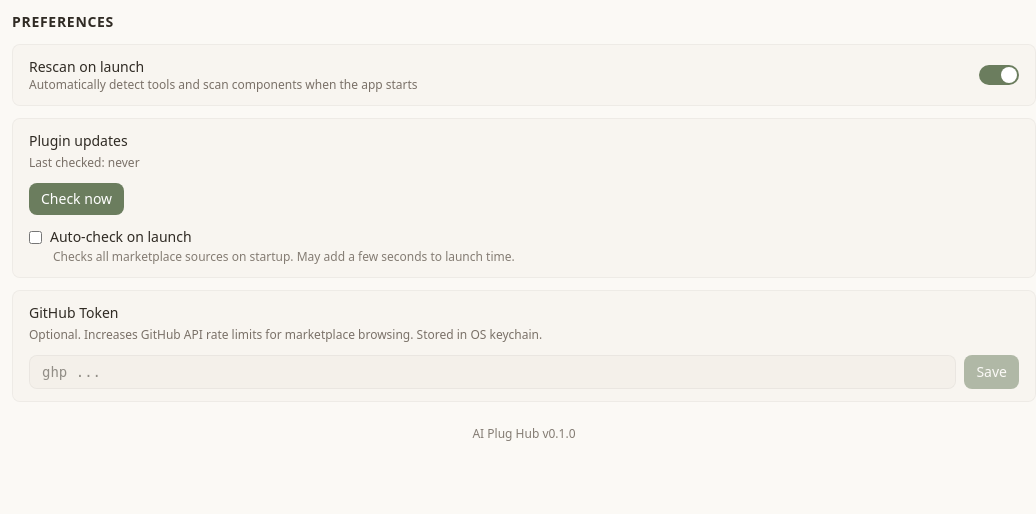
Test case: PreferencesSection › GitHub token — not configured › shows error when setGithubToken fails
Type "ghp_bad" into the password field named "GitHub token" at (493, 372), box [29,355,956,389]
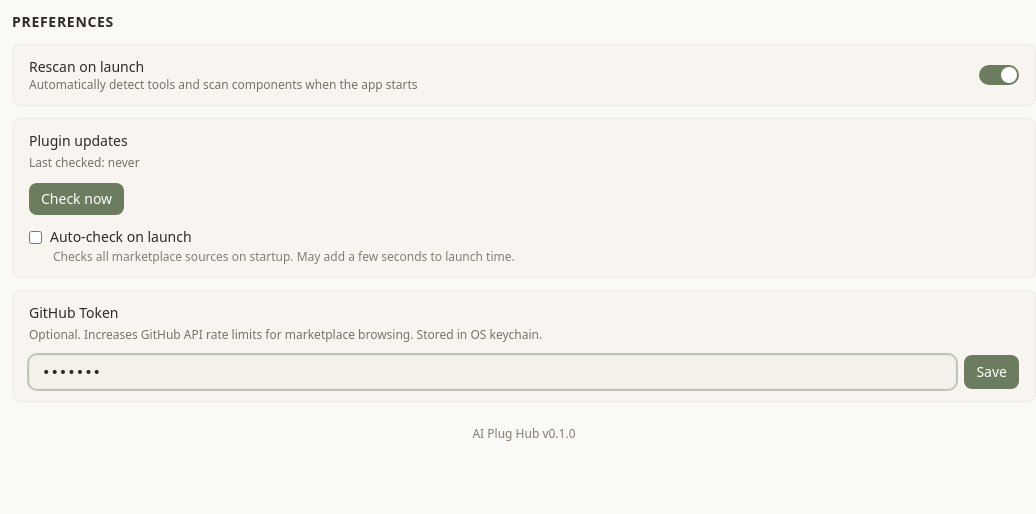
Click the button "Save" at (992, 372), box [964,355,1019,389]
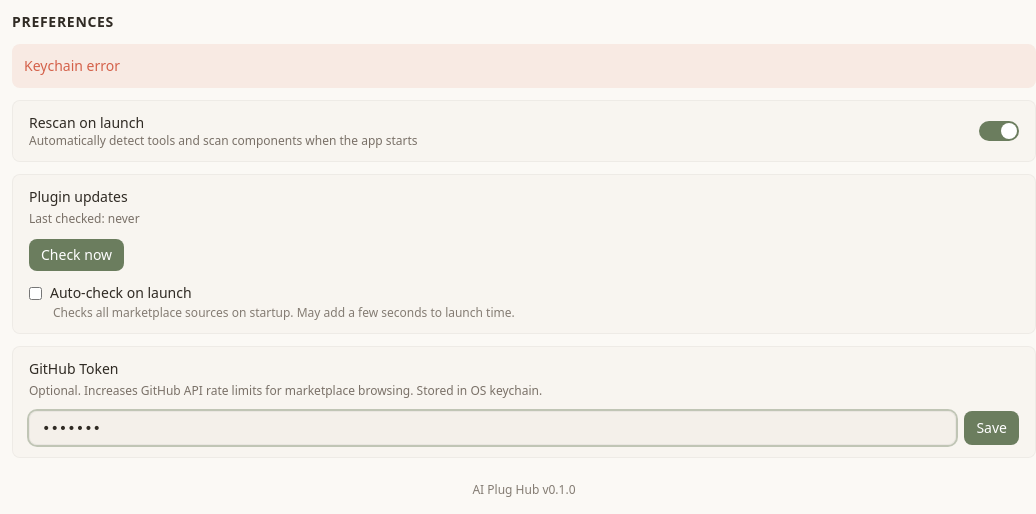
Result: the text "Keychain error" is shown at [12,44,1035,88]
